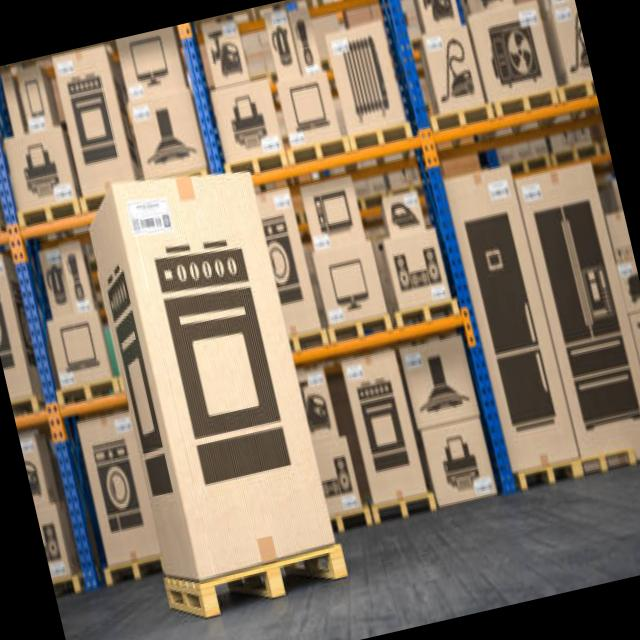Wooden-Pallets: (164, 544, 352, 619), (366, 478, 442, 530), (393, 290, 462, 334), (515, 452, 583, 496), (346, 114, 416, 156), (52, 369, 120, 411), (328, 310, 394, 352), (426, 100, 496, 138), (15, 192, 79, 230), (286, 136, 351, 173), (492, 86, 560, 120), (578, 445, 638, 477)
